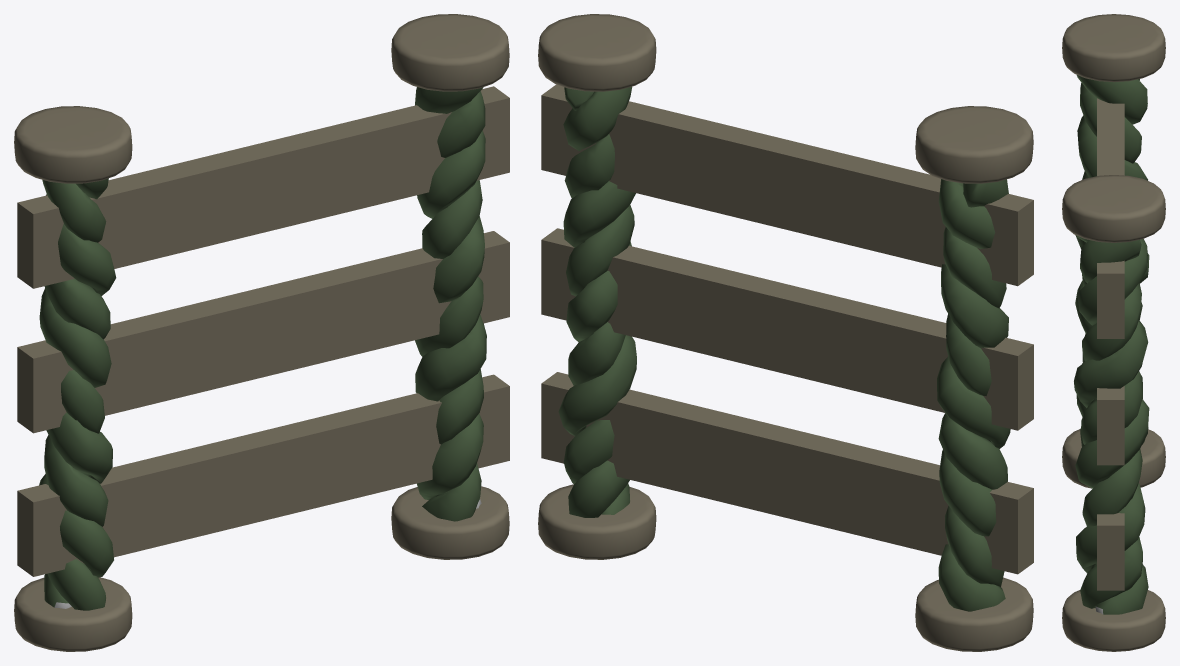
The model's file is hasigo.fbx.
The picture shows the model from 3 angles, left to right: view 1: azimuth 30°, elevation 25°; view 2: azimuth 150°, elevation 25°; view 3: azimuth 270°, elevation 25°; orthographic projection. The views are drawn at different scales.
Visible parts, largest first — view 1: pCube5; view 2: pCube5; view 3: pCube5.
Boxes of the visible parts, x1,y1,x2,y2 form: pCube5: (14, 14, 509, 651); pCube5: (538, 14, 1033, 651); pCube5: (1062, 14, 1165, 651).
Bounding box in the file's own units: 30.08 × 30.06 × 6.44.
